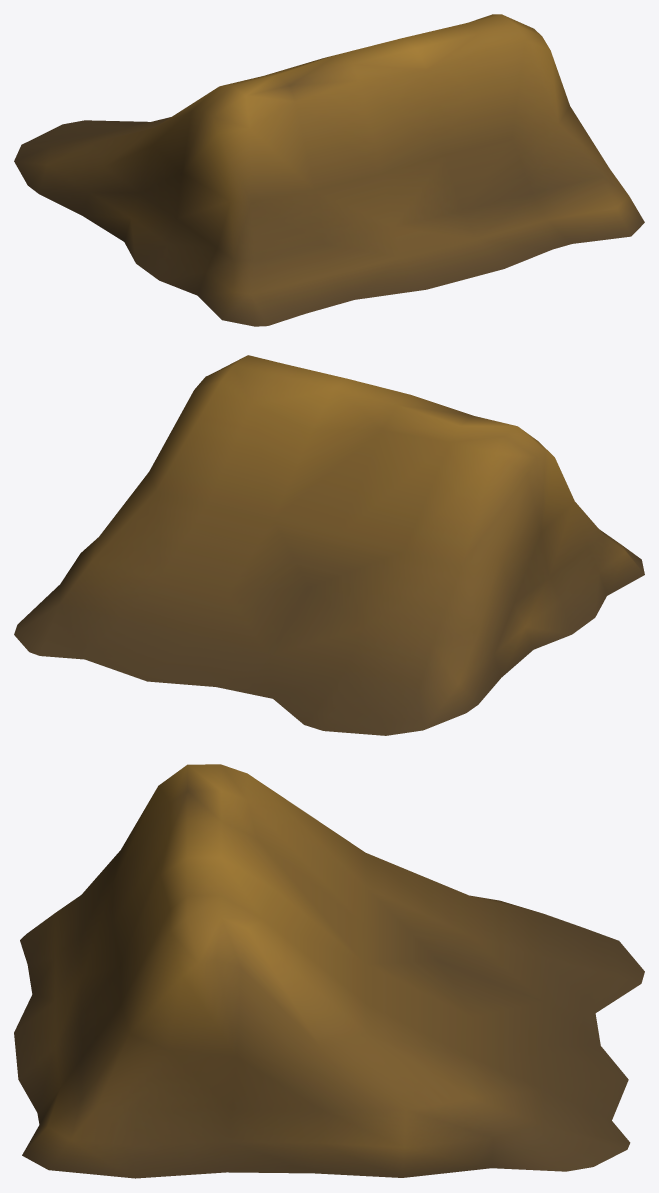
Rendered from Dirt_Ramp_1B.fbx.
The picture shows the model from 3 angles, top to bottom: view 1: azimuth 30°, elevation 25°; view 2: azimuth 150°, elevation 25°; view 3: azimuth 270°, elevation 25°; orthographic projection. The views are drawn at different scales.
Visible parts, largest first — view 1: Dirt_Ramp_1B; view 2: Dirt_Ramp_1B; view 3: Dirt_Ramp_1B.
Boxes of the visible parts, x1,y1,x2,y2 form: Dirt_Ramp_1B: [14, 14, 644, 326]; Dirt_Ramp_1B: [14, 355, 644, 735]; Dirt_Ramp_1B: [14, 764, 644, 1178].
Size of the model in its own units: 2122 by 803 by 2177.
